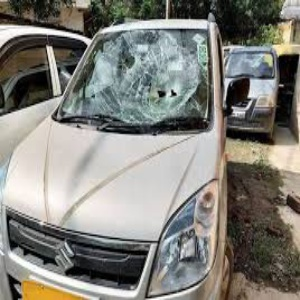front_windshield_glass: (71, 33, 209, 118)
